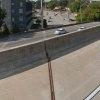Car: (51, 24, 68, 37)
